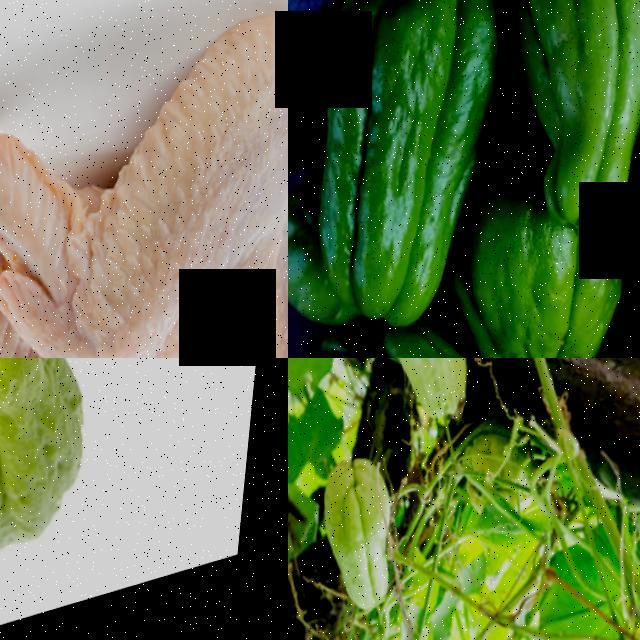chayote: (288, 0, 561, 324), (473, 0, 640, 235), (465, 181, 640, 358), (0, 358, 120, 586), (306, 435, 436, 630), (338, 358, 529, 471), (288, 493, 336, 640)
chicken wing: (0, 0, 288, 358)
